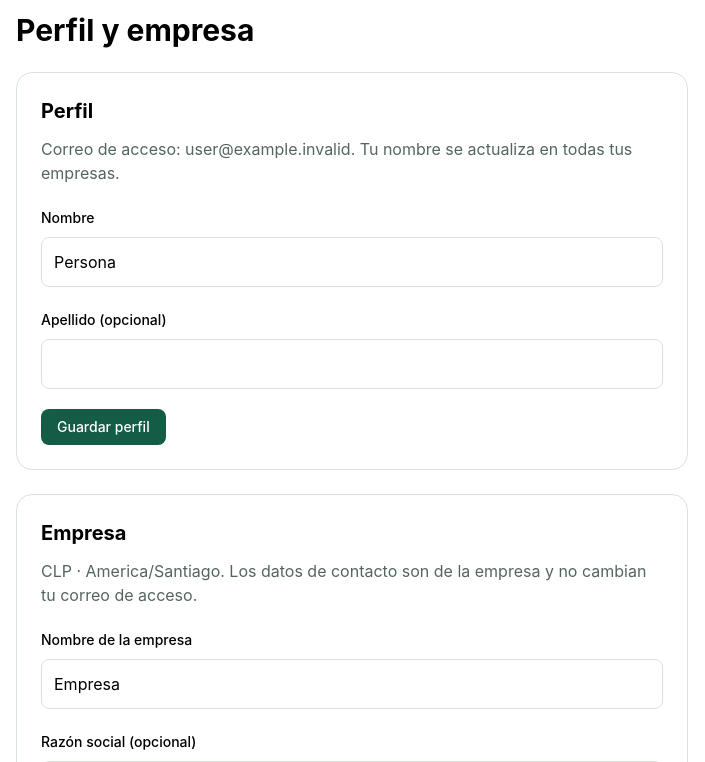
Test: ante conflicto recarga nombres y solicita revisión sin reintentar la escritura
Replace the text in the field labelled "Nombre" with "Borrador" at [352, 262], box [41,237,663,287]
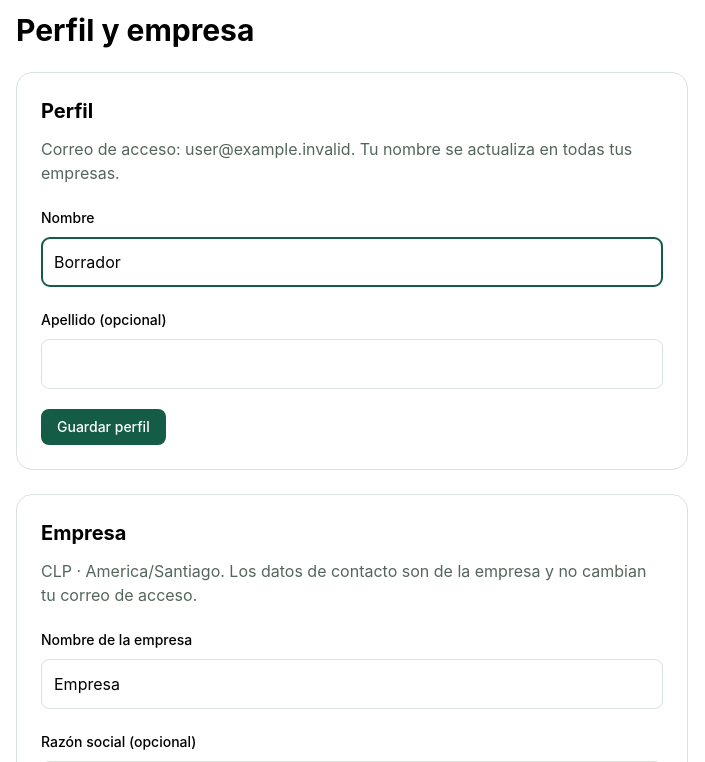
Click the button "Guardar perfil".
click(103, 427)  # box [41,409,166,445]
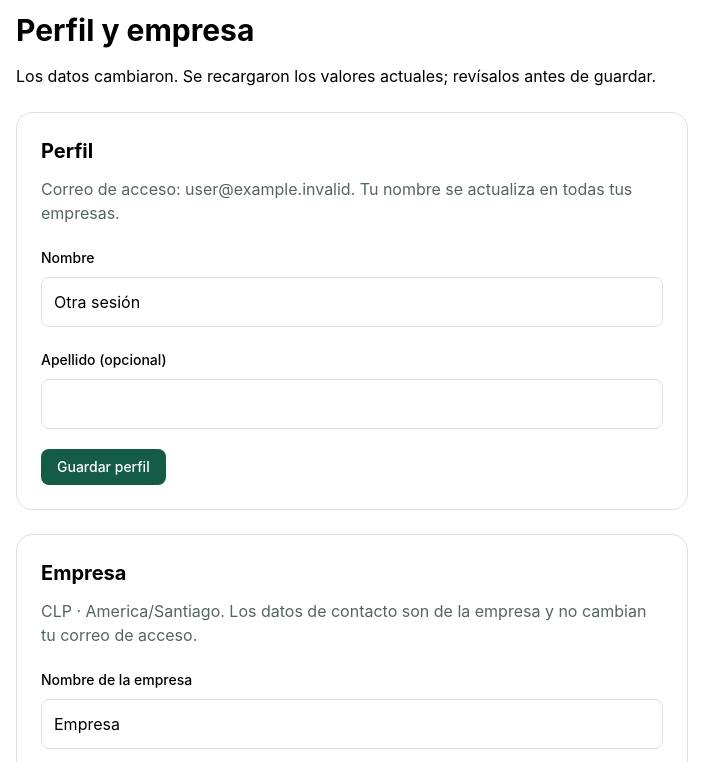
Now the field labelled "Nombre" holds "Otra sesión", box [41,277,663,327]
Now the message shows "Los datos cambiaron.", box [16,66,656,86]
